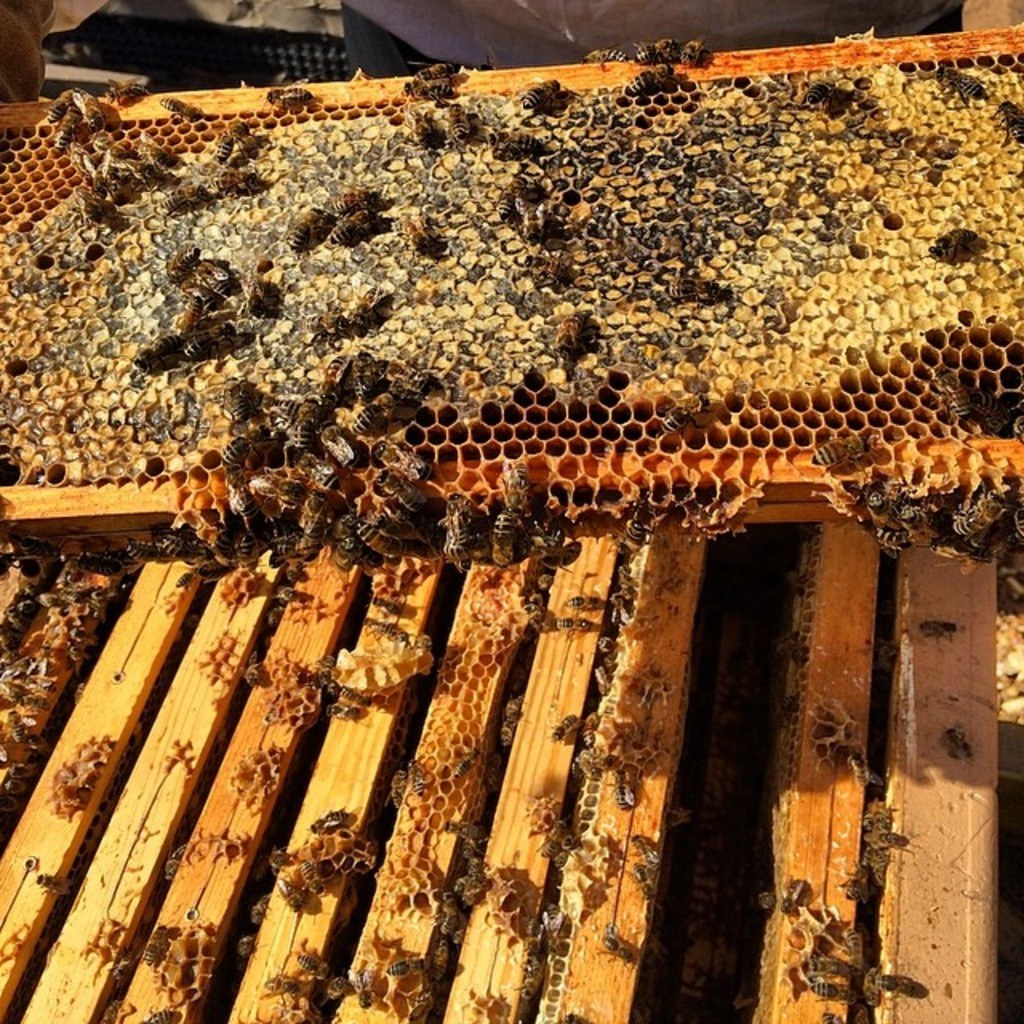bee: (0, 21, 1022, 1022), (114, 347, 571, 587), (18, 72, 262, 221), (778, 706, 891, 1022), (125, 235, 272, 384), (400, 798, 494, 1022), (269, 805, 365, 917), (589, 40, 712, 98), (253, 947, 334, 995), (310, 294, 373, 355), (798, 429, 867, 478), (285, 190, 333, 253), (941, 502, 1008, 538), (616, 491, 656, 547), (29, 542, 66, 597), (341, 194, 373, 251), (493, 126, 539, 160), (458, 102, 501, 138), (934, 70, 981, 101), (499, 170, 534, 211), (518, 74, 555, 110), (672, 394, 707, 432), (267, 86, 314, 114), (798, 72, 834, 106), (0, 597, 16, 672), (522, 206, 547, 250), (942, 229, 973, 264), (418, 61, 462, 85), (942, 363, 962, 410), (957, 392, 989, 419), (562, 306, 578, 357), (384, 85, 446, 98), (670, 277, 699, 304), (998, 510, 1022, 538), (1008, 107, 1022, 152), (410, 114, 432, 139)
insect: (0, 51, 1022, 517)
